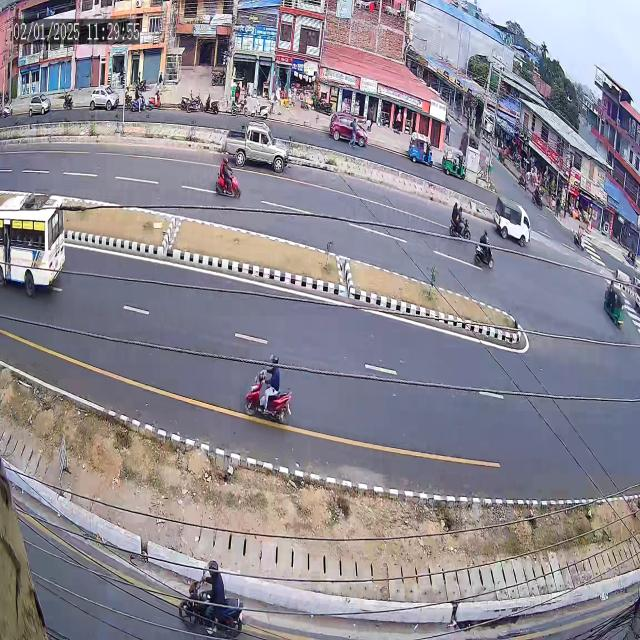auto: (596, 278, 628, 340)
bus: (0, 188, 67, 299)
car: (222, 110, 288, 176)
motorcycle: (173, 554, 254, 640), (233, 345, 297, 426), (209, 152, 245, 208), (446, 189, 470, 244), (473, 224, 496, 274)
van: (492, 190, 532, 250)
